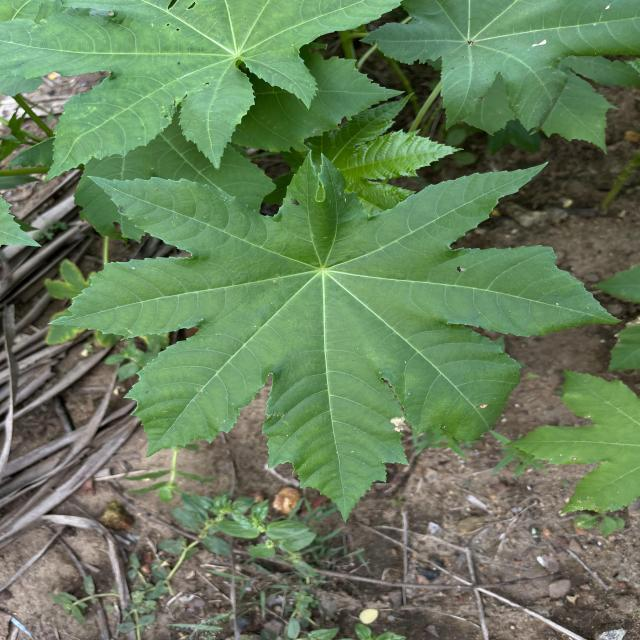Ricinus communis linn: (43, 140, 630, 526)
